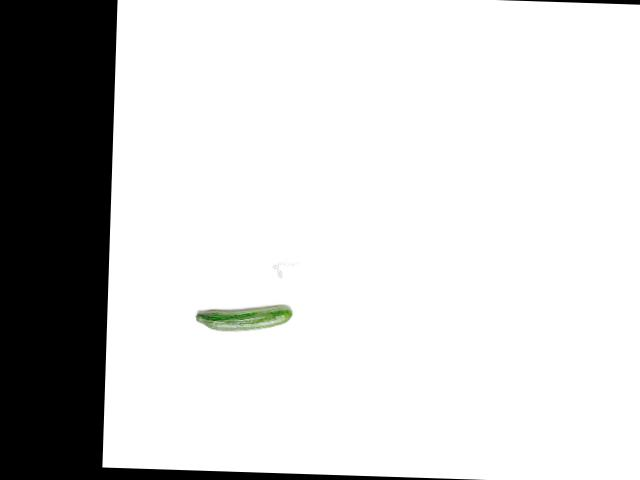cucumber: (195, 302, 293, 332)
